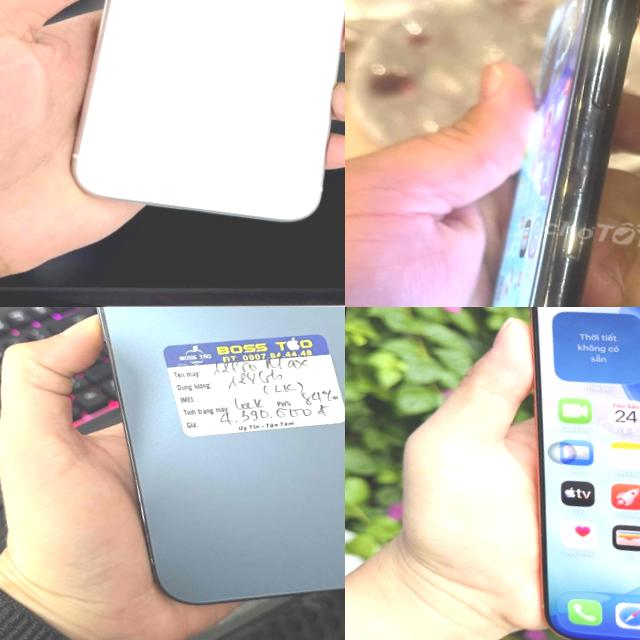gen_11: (490, 0, 640, 307)
gen_12_13: (21, 307, 345, 635)
gen_17: (471, 307, 640, 640)
gen_x_xs: (64, 0, 345, 232)
